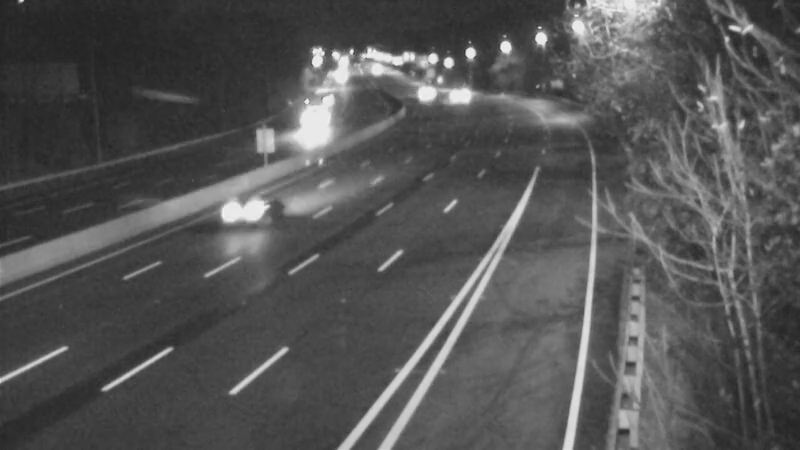vehicle: (212, 173, 292, 253), (397, 66, 447, 116), (429, 70, 479, 120), (285, 99, 335, 149)
